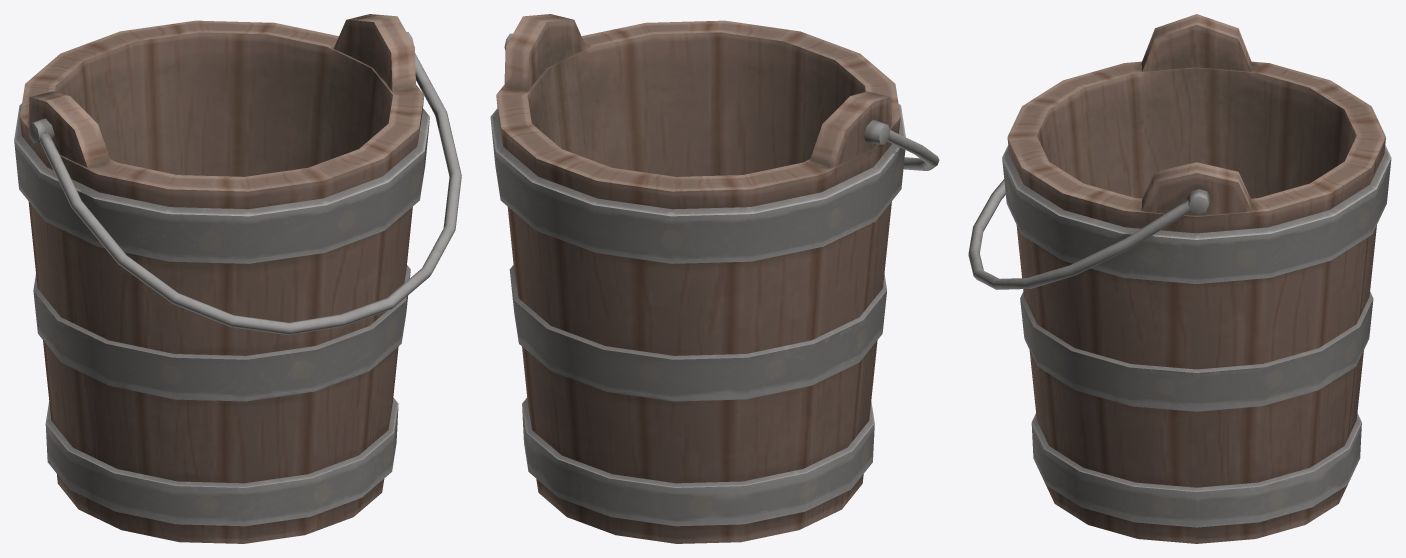
3 renders of one model, left to right at view 1: azimuth 30°, elevation 25°; view 2: azimuth 150°, elevation 25°; view 3: azimuth 270°, elevation 25°, orthographic. The views are drawn at different scales.
Parts seen in each view (by area): view 1: submesh_0; view 2: submesh_0; view 3: submesh_0.
Boxes of the visible parts, x1=… form: submesh_0: x1=14, y1=14, x2=461, y2=543; submesh_0: x1=490, y1=14, x2=939, y2=543; submesh_0: x1=968, y1=14, x2=1391, y2=543.
Size of the model in its own units: 0.5765 by 0.6018 by 0.5984.
1 material, 1 textured.
